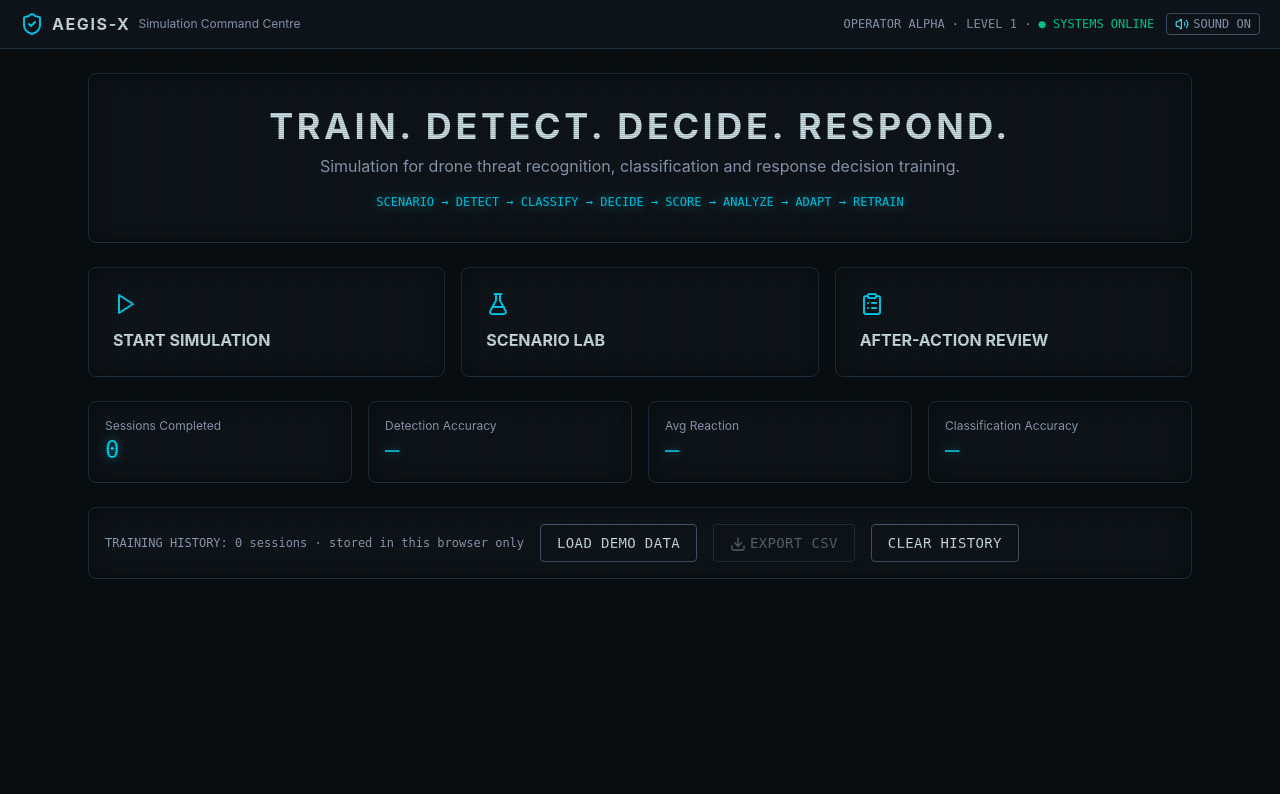
CSV export in the UI › EXPORT CSV is disabled with no history, and enabled once demo data is loaded
Click the button "LOAD DEMO DATA" at (619, 543), box [540, 524, 697, 562]
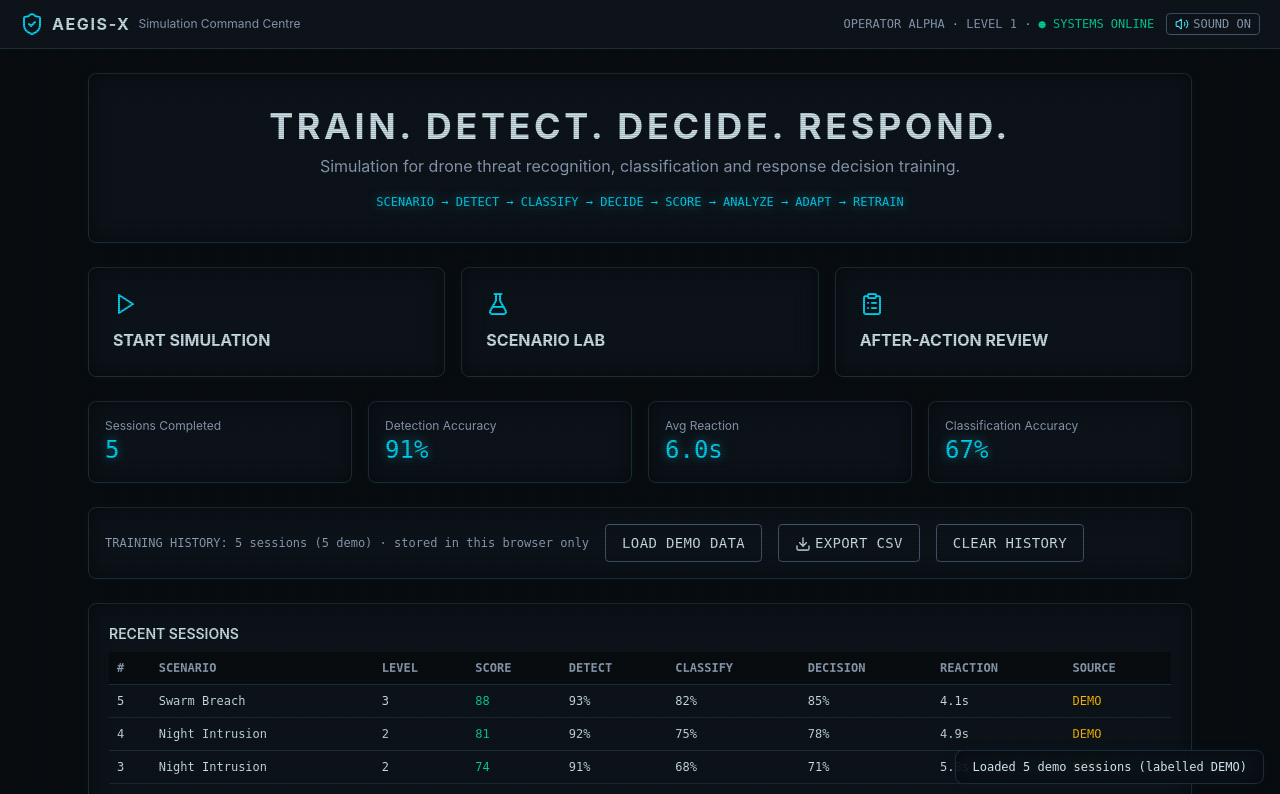
Check: the button "EXPORT CSV" is enabled, box [778, 524, 920, 562]
